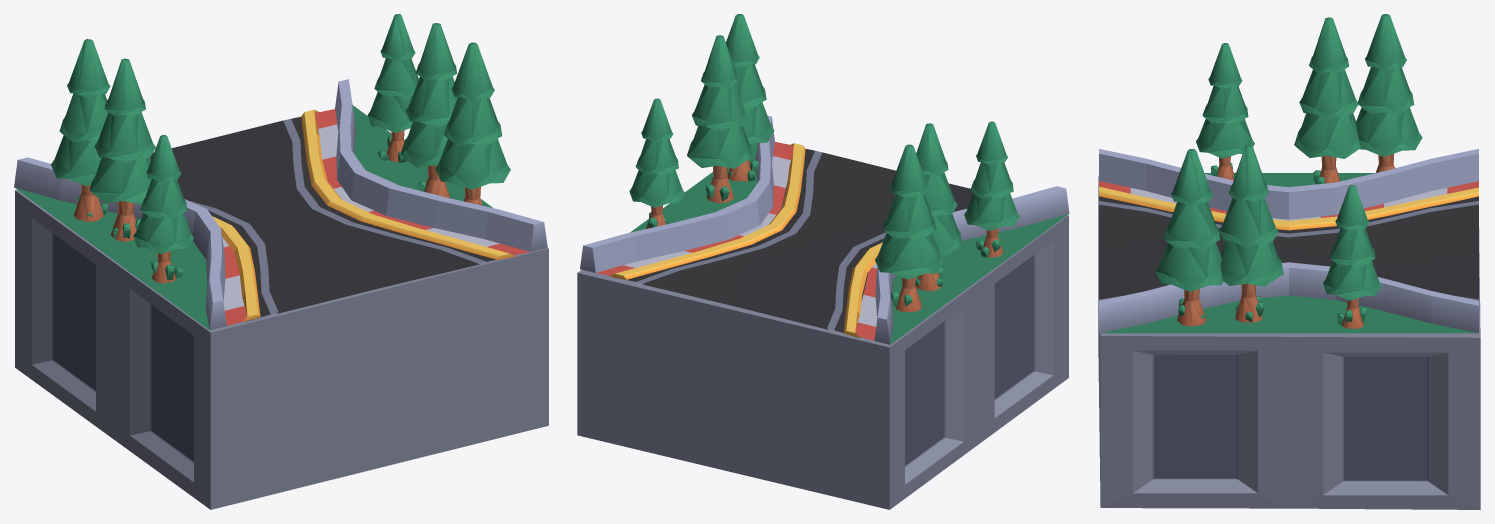
Rendered from elev-track-choke-both.glb.
The picture shows the model from 3 angles, left to right: view 1: azimuth 30°, elevation 25°; view 2: azimuth 150°, elevation 25°; view 3: azimuth 270°, elevation 25°; orthographic projection. The views are drawn at different scales.
Visible parts, largest first — view 1: track-straight.006; view 2: track-straight.006; view 3: track-straight.006.
Boxes of the visible parts, bbox=[...] form: track-straight.006: bbox=[14, 14, 548, 509]; track-straight.006: bbox=[577, 14, 1069, 509]; track-straight.006: bbox=[1098, 14, 1480, 509].
Size of the model in its own units: 10.33 by 10.05 by 10.06.
Materials: 3 (3 with a texture image).
